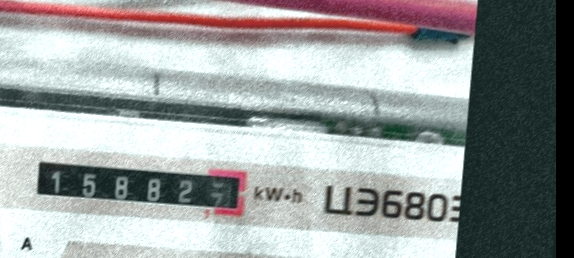1: (49, 164, 64, 194)
2: (176, 176, 195, 204)
5: (80, 169, 99, 200)
7: (209, 188, 223, 206)
8: (112, 172, 130, 201), (145, 174, 163, 203)
screen: (24, 143, 254, 224)
